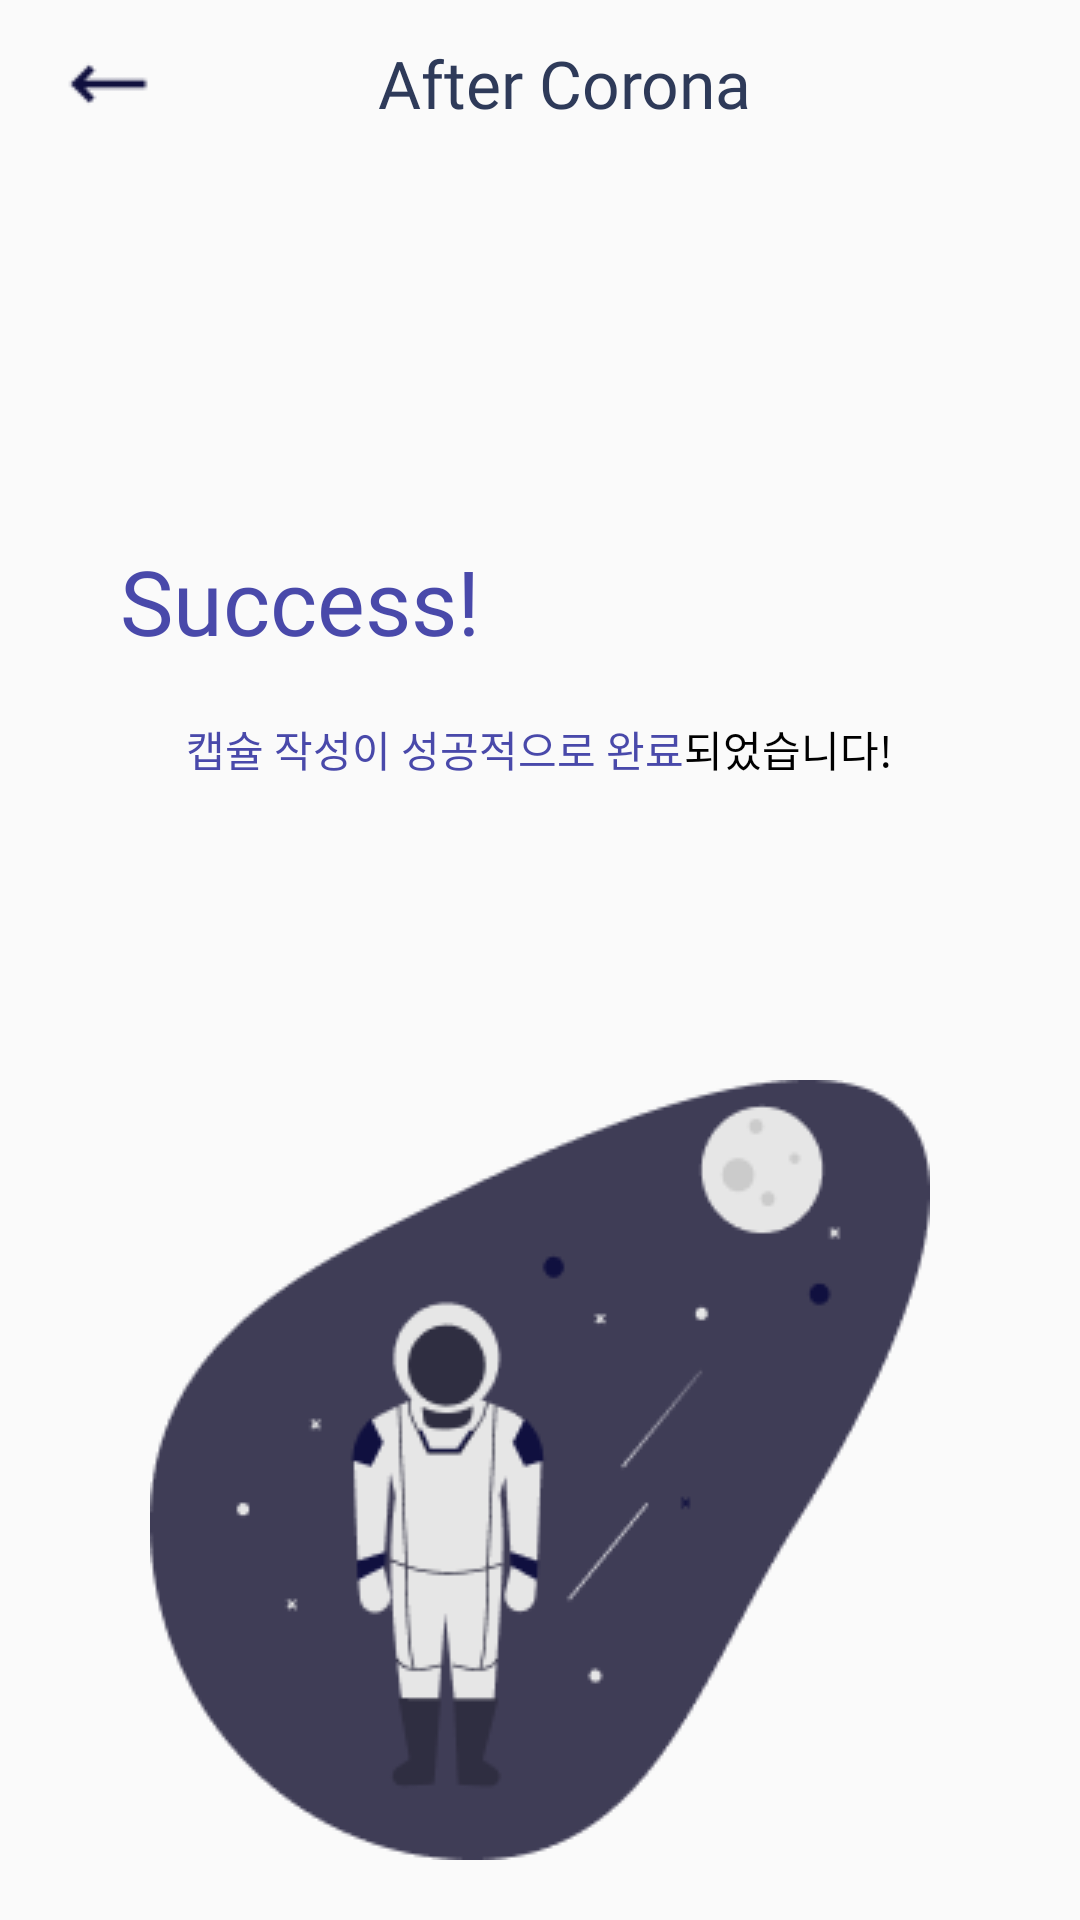

Locate icon controls on the screen. Image size 1080 × 1920, boxes as region(x1, y1, x2, y2).
long left: region(70, 65, 148, 103)
